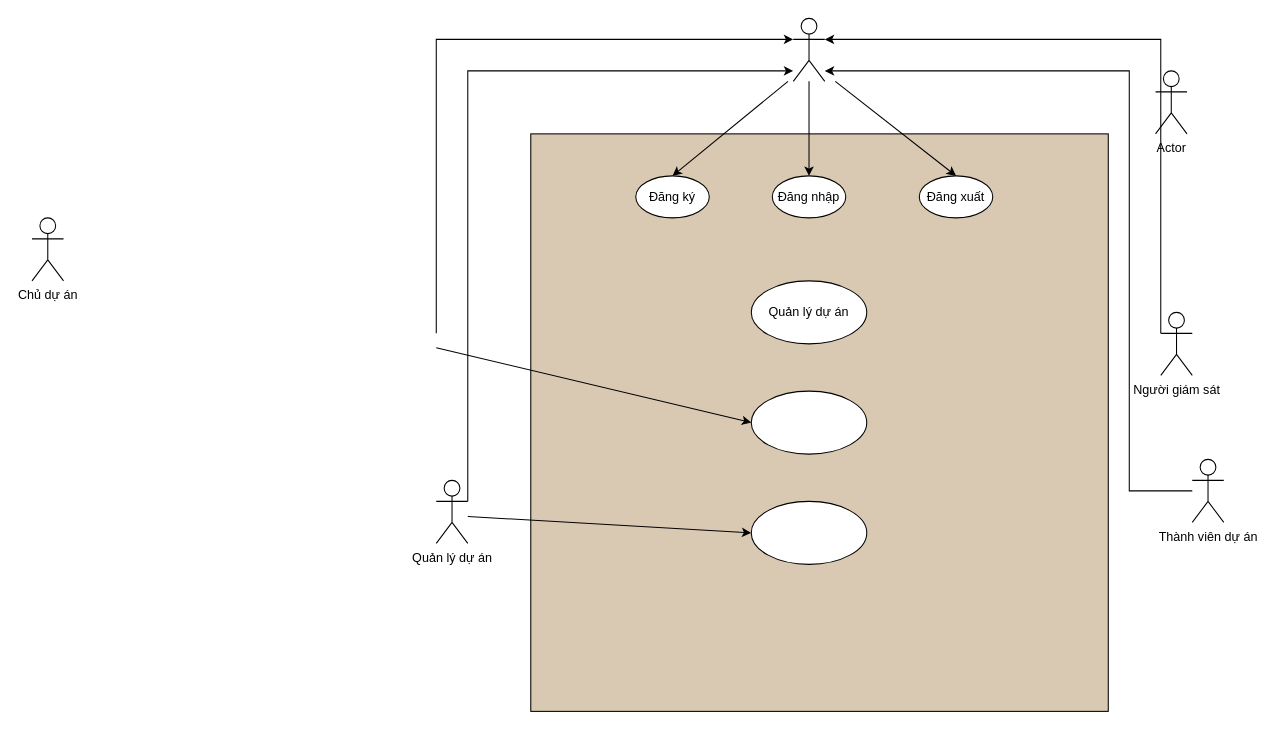
This 1276x730 diagram has some shape labels left out. Each missing label, with the box of its shape:
Quản lý công việc: (750, 500, 867, 564)
Quản lý giai đoạn: (750, 390, 867, 454)
User: (792, 17, 825, 81)
